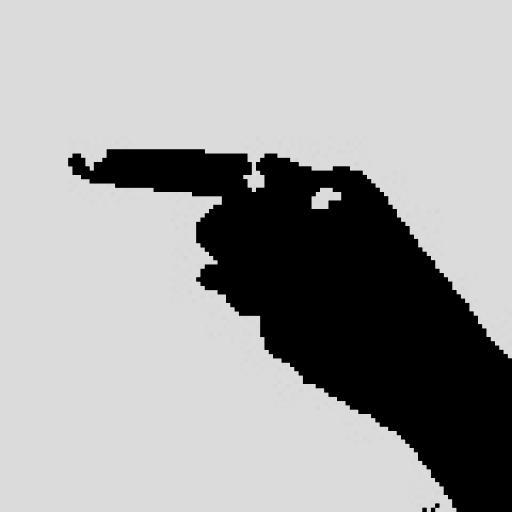index_right: (68, 146, 512, 349)
